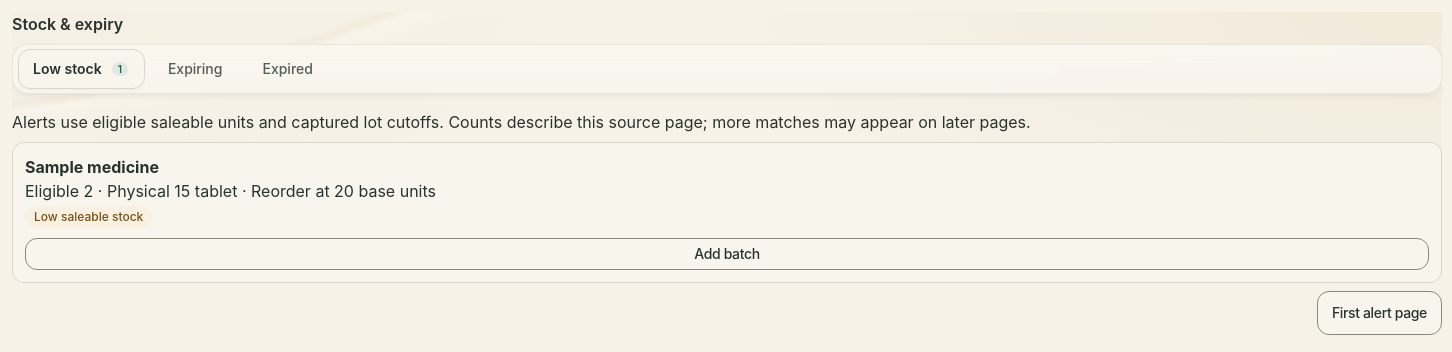
shows an expiry read failure instead of a false empty success and supports retry
Expected: the text "Sample medicine" is shown, [25, 157, 159, 177]
Click the tab "Expiring" at [195, 69], box [152, 49, 238, 89]
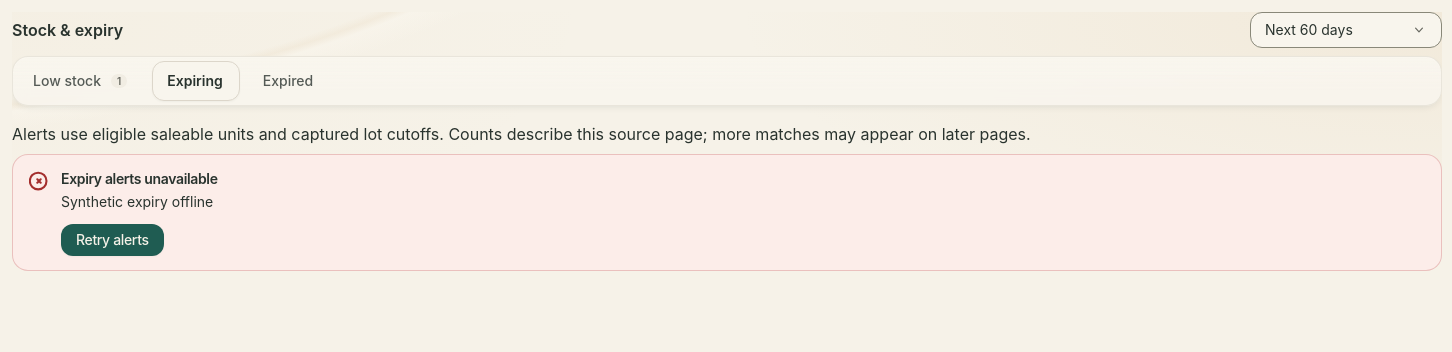
Expected: the text "No expiring" is not shown
Expected: the text "Expiry alerts unavailable" is shown, [61, 170, 218, 187]
Click the button "Retry alerts" at [112, 240], box [61, 224, 164, 256]
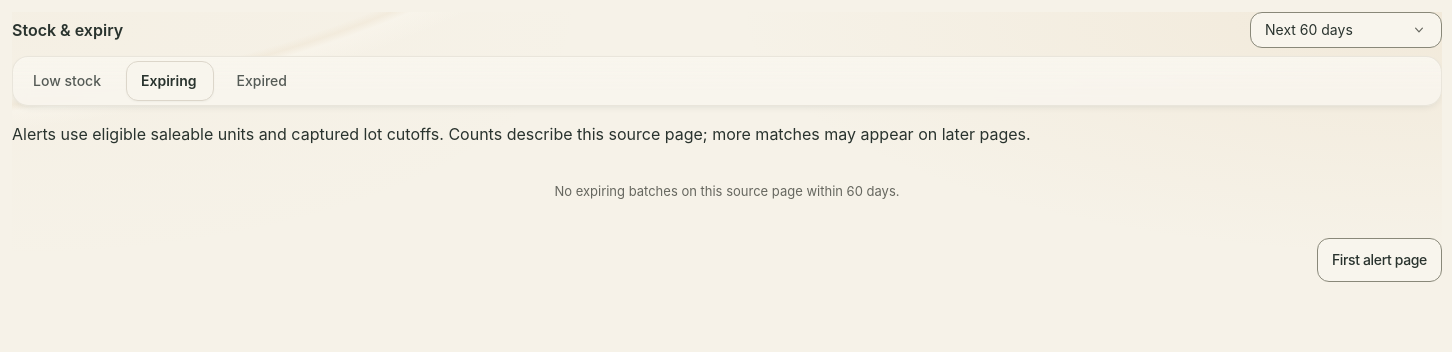
Expected: the text "No expiring batches on this source page within 60 days." is shown, [554, 183, 900, 199]
